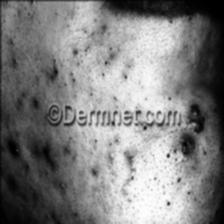Non-Cancerous Skin Condition: (114, 136, 134, 168), (186, 103, 202, 136), (42, 146, 56, 168), (46, 58, 58, 82), (8, 141, 20, 156), (179, 138, 188, 154), (166, 198, 170, 210)
